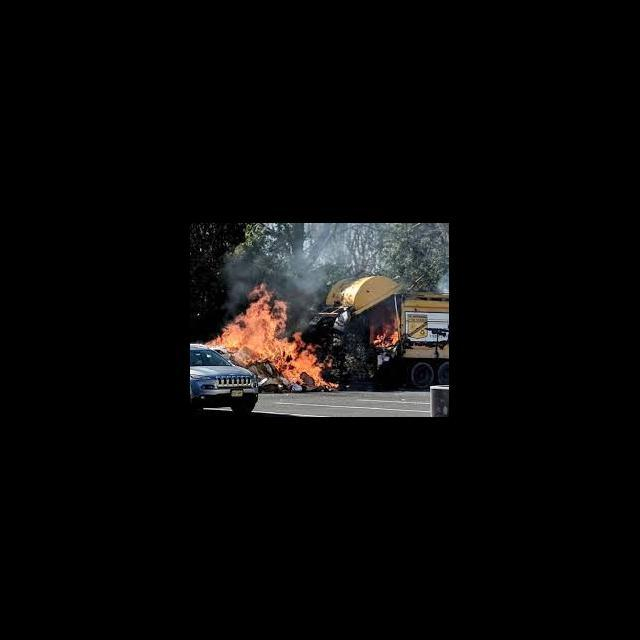Fire: (206, 287, 339, 393), (373, 312, 404, 350)
Smoke: (223, 224, 415, 284)
